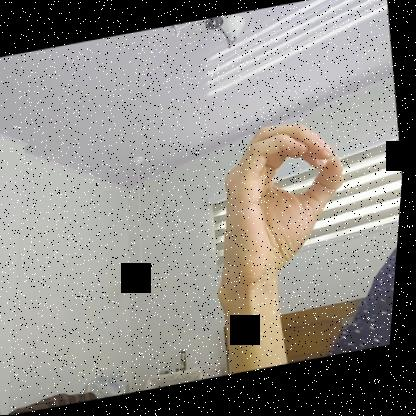O: (203, 112, 366, 290)
